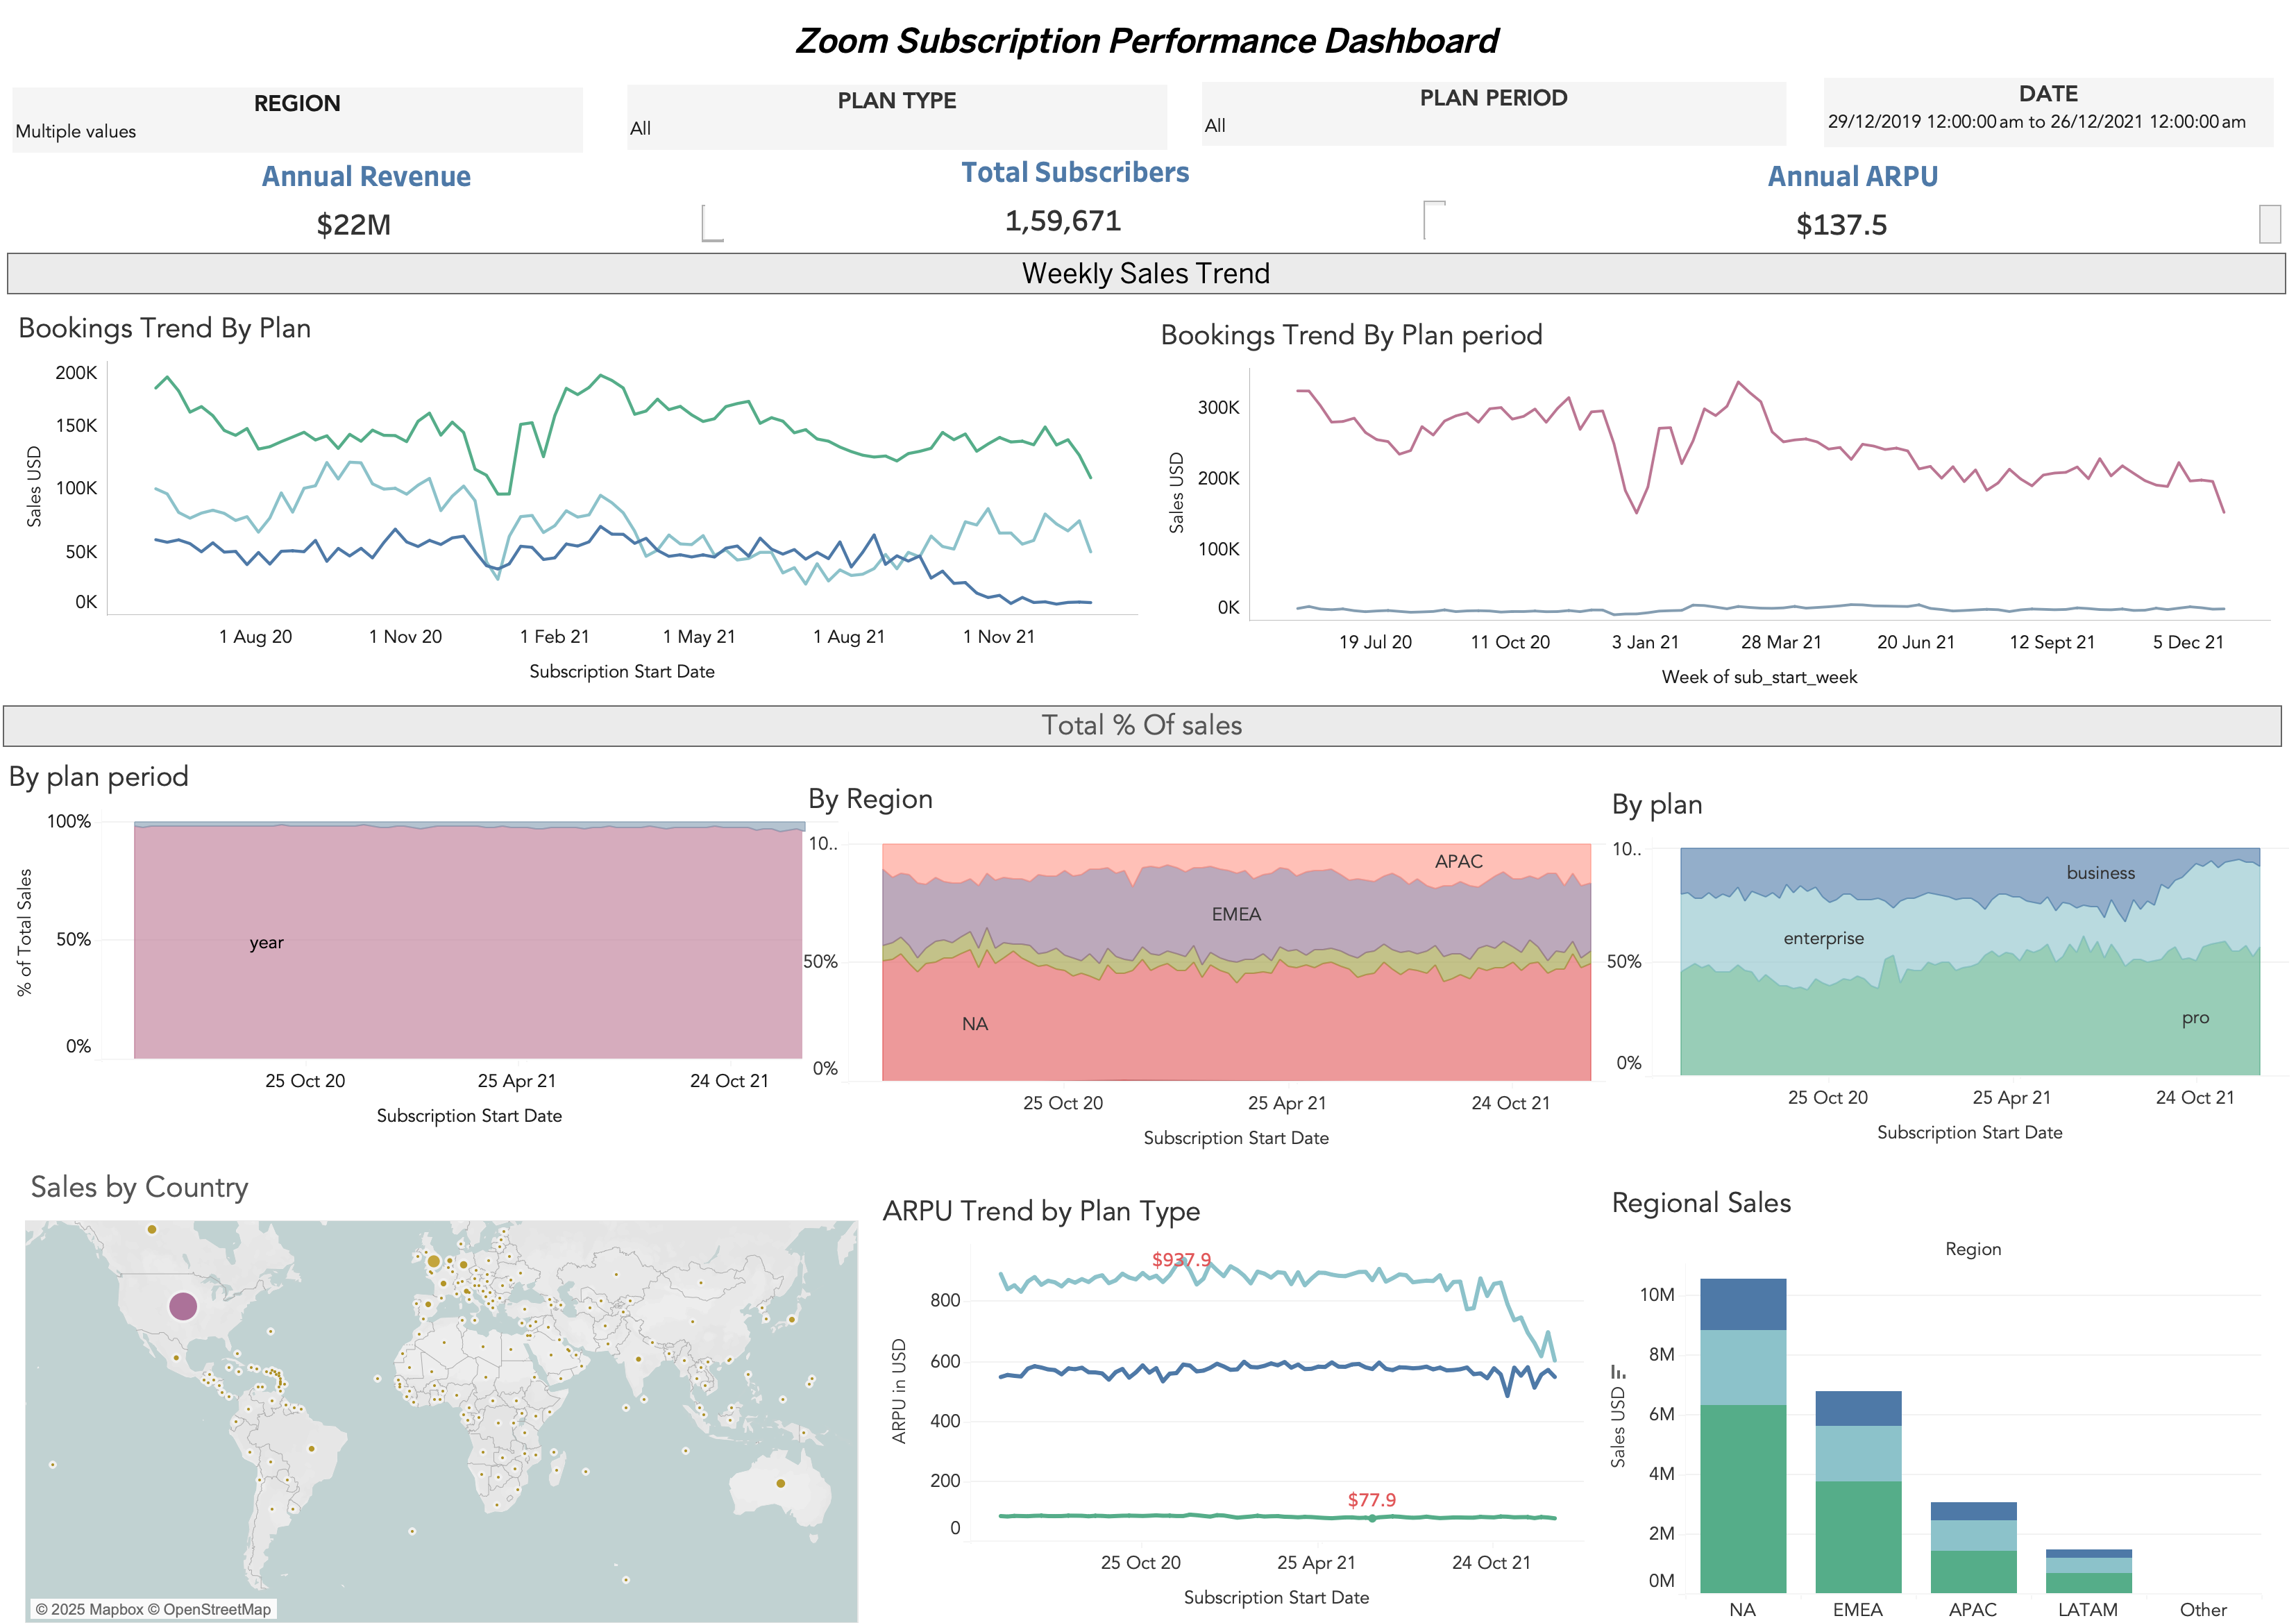

This screenshot's page, from the dashboard's own definition file:
{"tool":"tableau","page":{"name":"Dashboard 1","canvas":[1654,1169],"ordinal":0},"visuals":[{"type":"title","box":[0,0,1654,60]},{"type":"filter","title":"subs","param":"[federated.1r1f6k50gylysb1alzq5g1bmsxzb].[none:Calculation_46443396355276800:qk]","box":[1314,56,324,50]},{"type":"filter","title":"subs","param":"[federated.1r1f6k50gylysb1alzq5g1bmsxzb].[none:sub_period:nk]","box":[866,59,421,46]},{"type":"text","box":[0,60,1654,1109]},{"type":"filter","title":"subs","param":"[federated.1r1f6k50gylysb1alzq5g1bmsxzb].[none:sub:nk]","box":[452,61,389,47]},{"type":"filter","title":"subs","param":"[federated.1r1f6k50gylysb1alzq5g1bmsxzb].[none:region:nk]","box":[9,63,411,47]},{"type":"worksheet","title":"KPI - Subscribers","mark":"Automatic","box":[508,103,534,69]},{"type":"worksheet","title":"KPI - Revenue","mark":"Automatic","box":[7,106,515,68]},{"type":"worksheet","title":"KPI - ARPU","mark":"Automatic","box":[1027,106,617,69]},{"type":"text","box":[5,182,1642,30]},{"type":"worksheet","title":"subs","mark":"Automatic","rows":["price_usd"],"cols":["Calculation_46443396355276800"],"box":[9,217,811,283]},{"type":"worksheet","title":"period","mark":"Automatic","rows":["price_usd"],"cols":["Calculation_46443396355276800"],"box":[832,222,804,282]},{"type":"text","box":[2,508,1642,30]},{"type":"worksheet","title":"Weekly %-Sub period","mark":"Area","cols":["Calculation_46443396355276800"],"box":[2,540,602,280]},{"type":"worksheet","title":"Weekly %-Sub region","mark":"Area","cols":["Calculation_46443396355276800"],"box":[578,556,593,280]},{"type":"worksheet","title":"Weekly %-Sub ","mark":"Area","cols":["Calculation_46443396355276800"],"box":[1157,560,492,272]},{"type":"worksheet","title":"Sales by Country","mark":"Automatic","box":[18,835,601,335]},{"type":"worksheet","title":"Regional Sales","mark":"Automatic","rows":["price_usd"],"cols":["region"],"box":[1157,847,472,323]},{"type":"worksheet","title":"ARPU Trend by Plan Type","mark":"Automatic","rows":["Calculation_46443397085077507"],"cols":["Calculation_46443396355276800"],"box":[632,853,509,314]}]}

Visuals, with their boxes in screenshot pixels (x1, y1, x2, y2), scaled from the page's 1654x1169 canvas onto the 2296x1623 screenshot:
title: 0 0 2295 83
"subs" filter: 1824 78 2274 147
"subs" filter: 1202 82 1787 146
text: 0 83 2295 1622
"subs" filter: 627 85 1167 150
"subs" filter: 12 87 583 153
"KPI - Subscribers" worksheet: 705 143 1446 239
"KPI - Revenue" worksheet: 10 147 725 242
"KPI - ARPU" worksheet: 1426 147 2282 243
text: 7 253 2286 294
"subs" worksheet: 12 301 1138 694
"period" worksheet: 1155 308 2271 700
text: 3 705 2282 747
"Weekly %-Sub period" worksheet (Area marks): 3 750 838 1138
"Weekly %-Sub region" worksheet (Area marks): 802 772 1626 1161
"Weekly %-Sub " worksheet (Area marks): 1606 777 2289 1155
"Sales by Country" worksheet: 25 1159 859 1622
"Regional Sales" worksheet: 1606 1176 2261 1622
"ARPU Trend by Plan Type" worksheet: 877 1184 1584 1620
